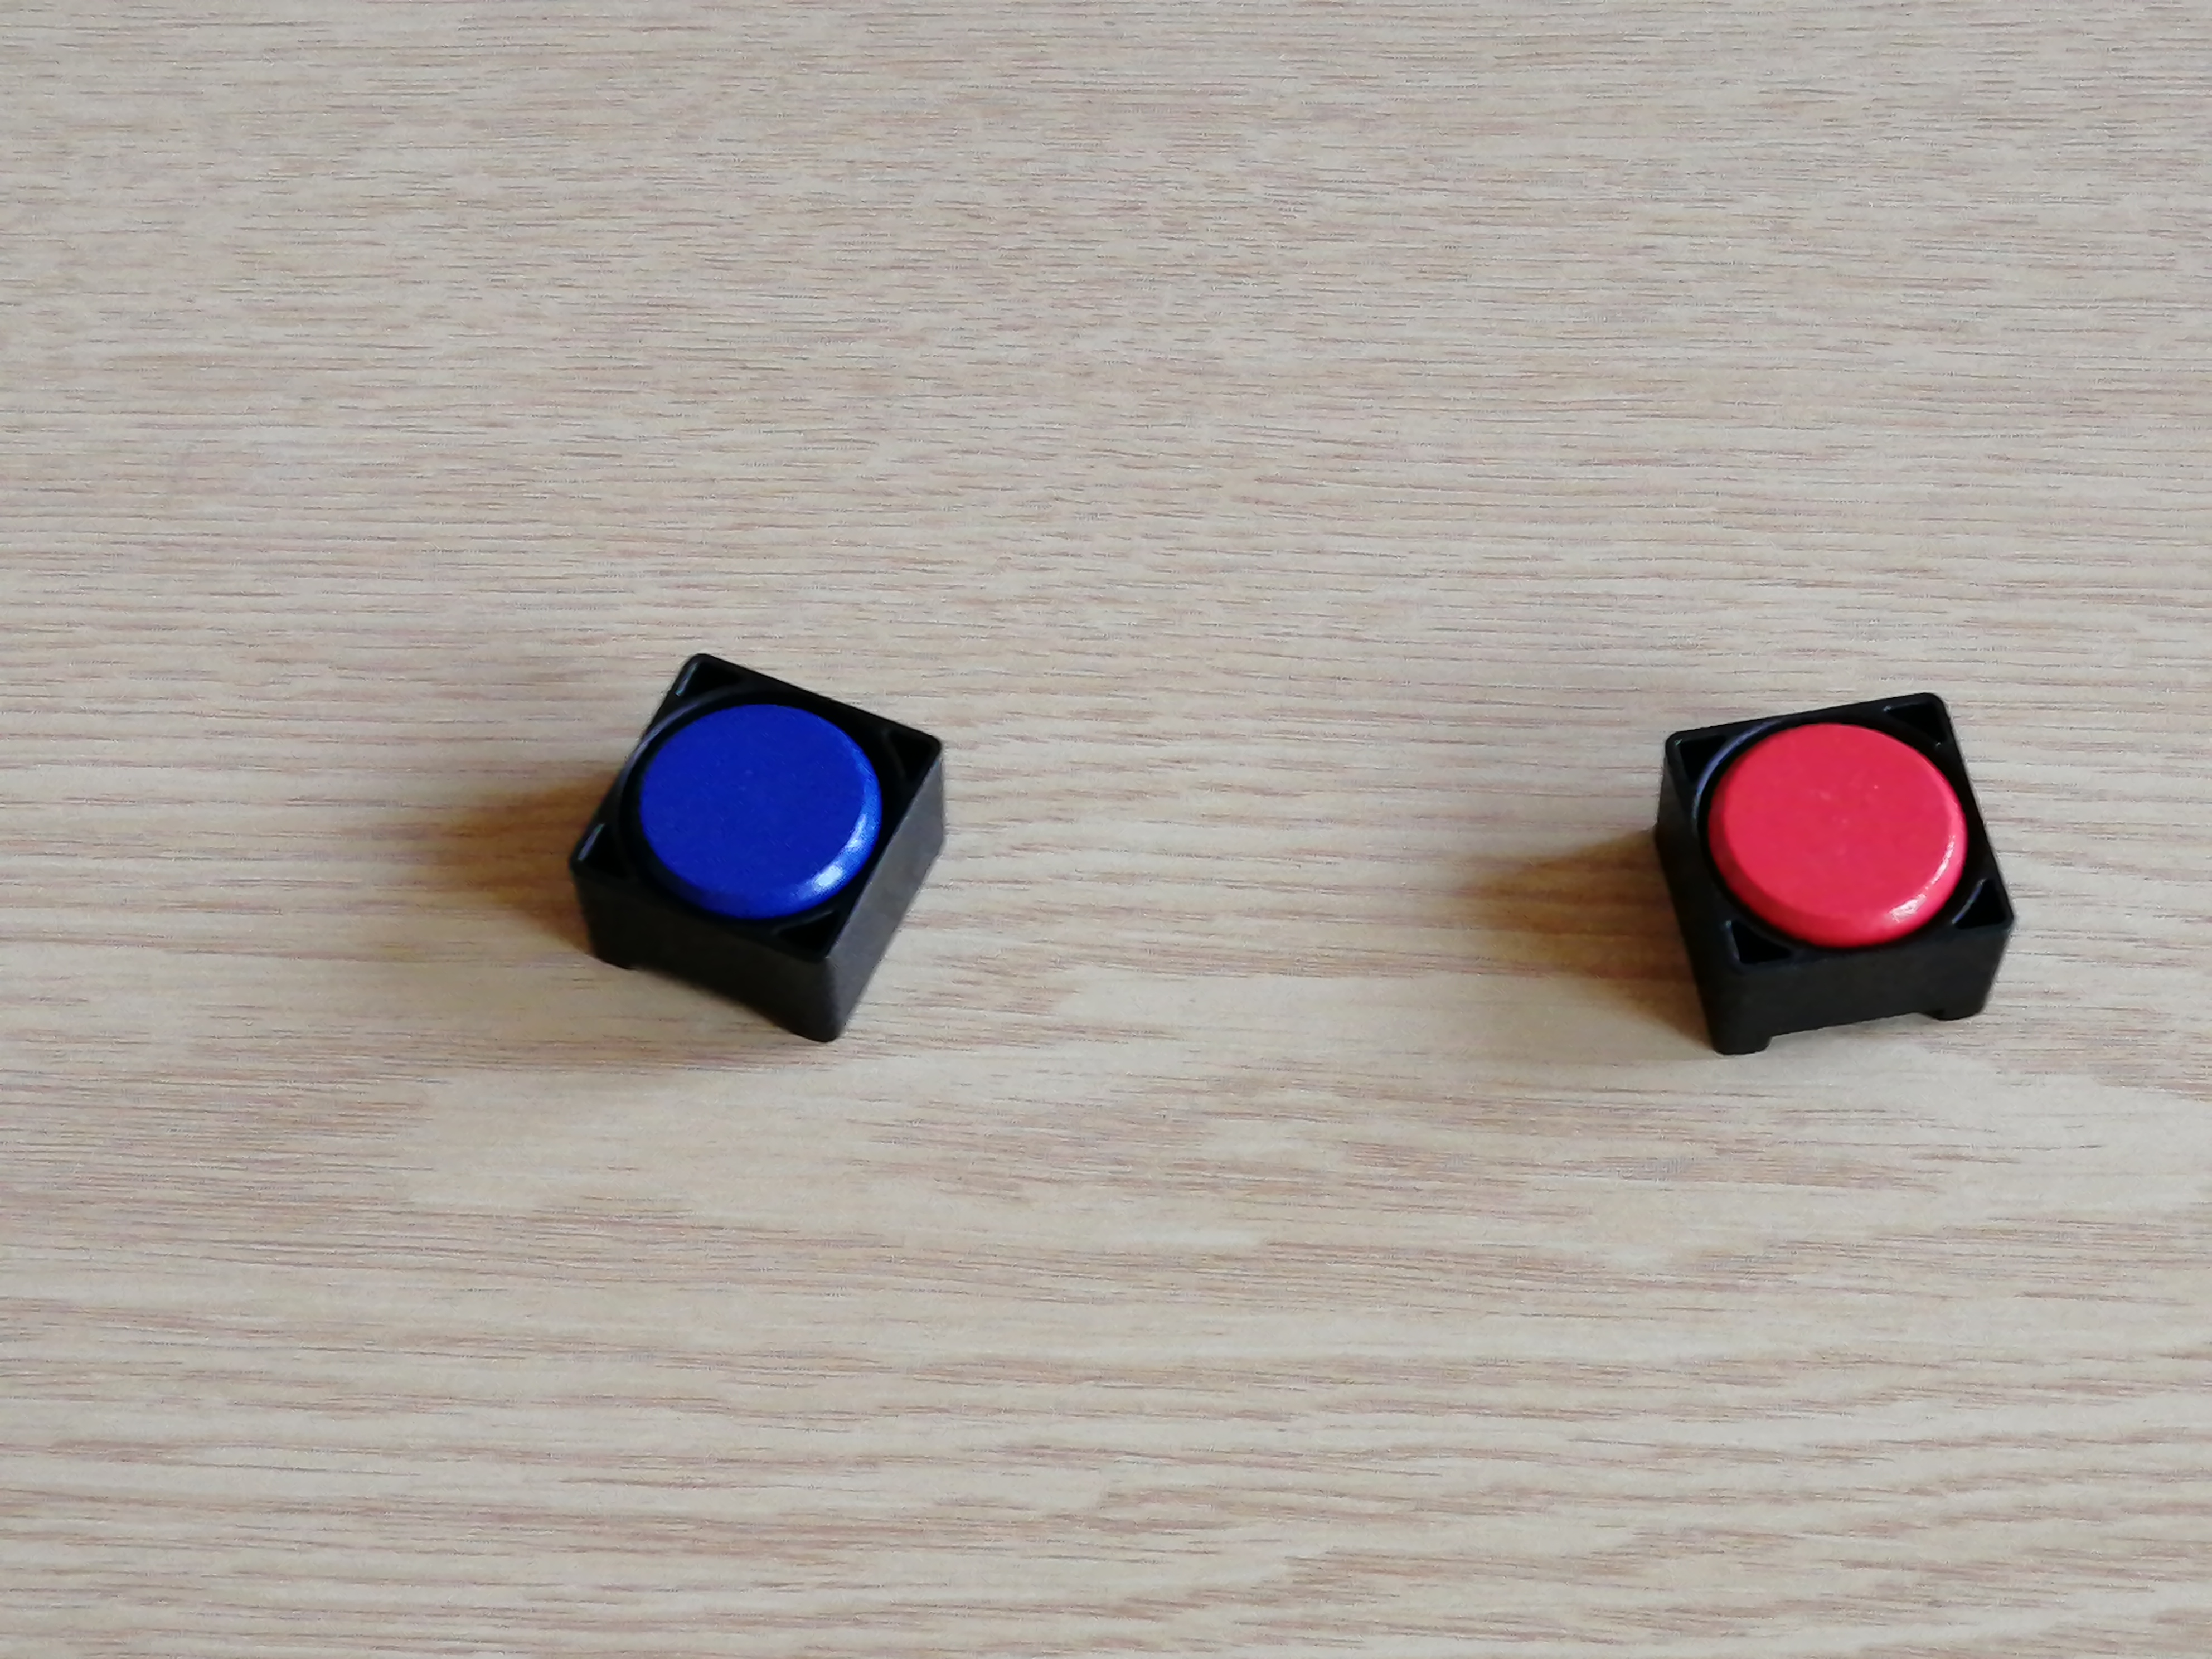Behaelter: (573, 652, 949, 1037), (1651, 685, 2017, 1060)
WerkStueck: (1719, 725, 1963, 941), (637, 711, 873, 899)
